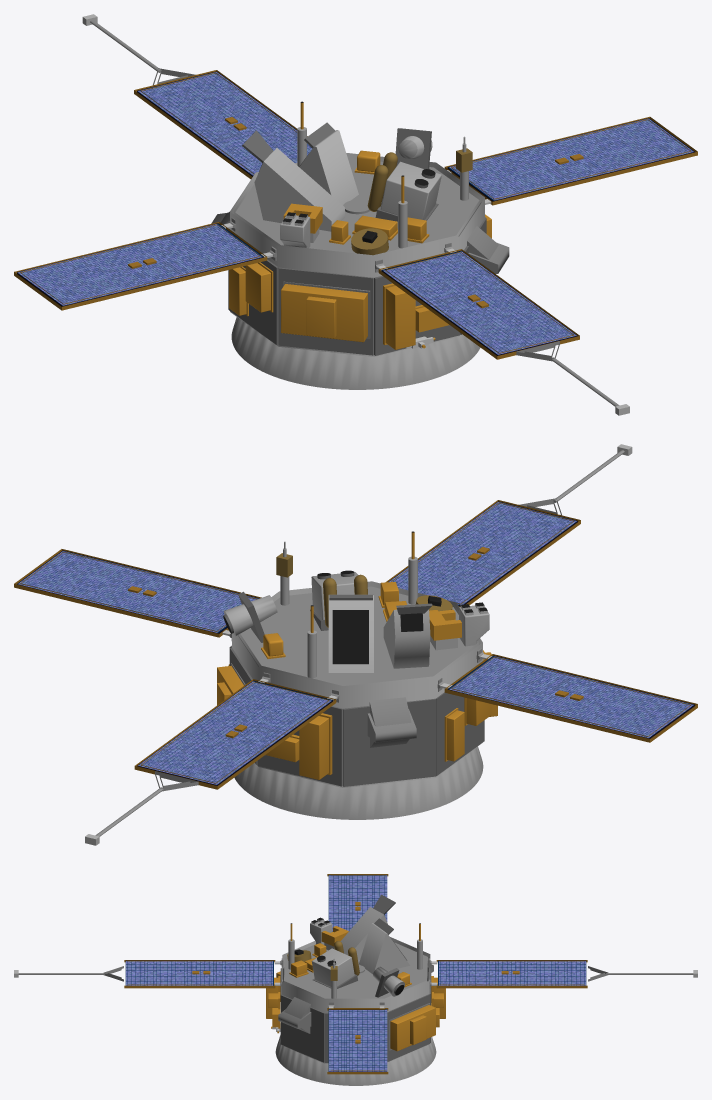
The model's file is satellite.dae.
3 renders of one model, top to bottom at view 1: azimuth 30°, elevation 25°; view 2: azimuth 150°, elevation 25°; view 3: azimuth 270°, elevation 25°, orthographic. The views are drawn at different scales.
Visible parts, largest first — view 1: ACE-Composite-2011-3; view 2: ACE-Composite-2011-3; view 3: ACE-Composite-2011-3.
Boxes of the visible parts, left/top/right/bottom form: ACE-Composite-2011-3: left=14, top=14, right=697, bottom=415; ACE-Composite-2011-3: left=14, top=444, right=697, bottom=845; ACE-Composite-2011-3: left=14, top=874, right=697, bottom=1085.
Size of the model in its own units: 9215 by 2780 by 13453.
